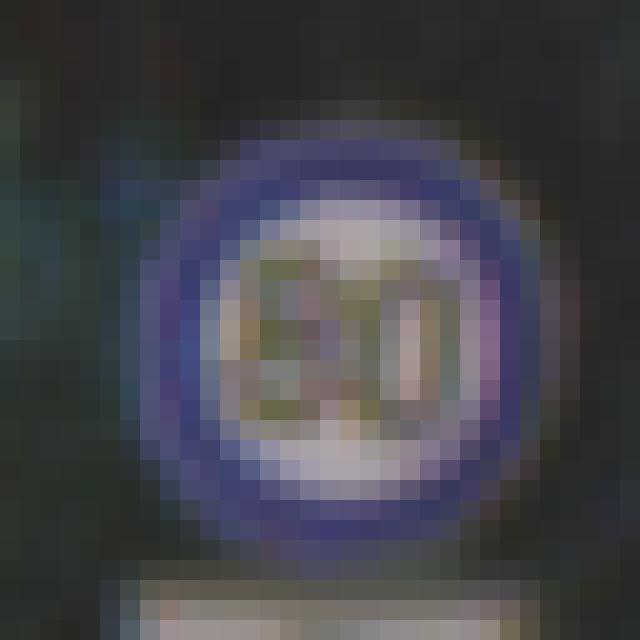SPEED-LIMIT-80: (141, 125, 561, 547)
